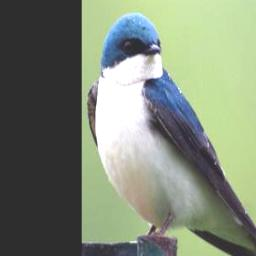Swallow: (87, 10, 256, 256)
